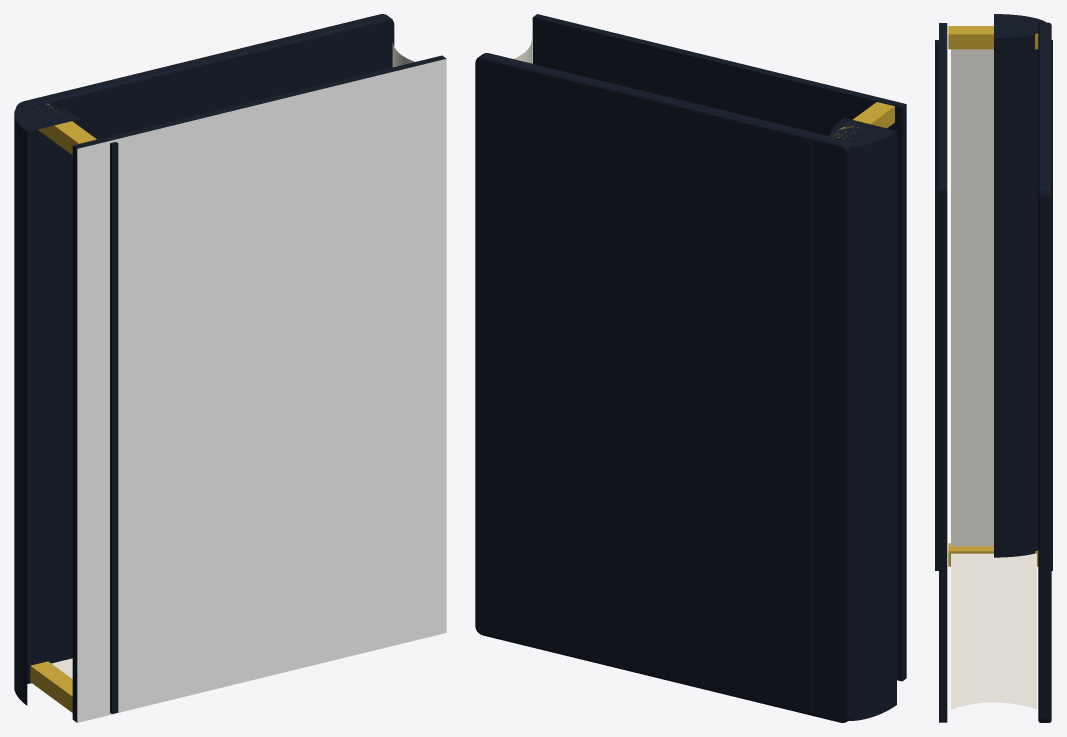
The model's file is advanced_book_realistic.gltf.
3 views of the same model, side by side, from view 1: azimuth 30°, elevation 25°; view 2: azimuth 150°, elevation 25°; view 3: azimuth 270°, elevation 25° (orthographic). The views are drawn at different scales.
Parts seen in each view (by area): view 1: Front_Cover_Board, Back_Cover_Board, Convex_Spine, Front_French_Groove, Bottom_Headband, Top_Headband; view 2: Back_Cover_Board, Convex_Spine, Front_Cover_Board, Back_French_Groove, Top_Headband; view 3: Concave_Paper_Text_Block, Convex_Spine, Back_Cover_Board, Front_Cover_Board, Front_French_Groove, Top_Headband, Back_French_Groove, Bottom_Headband.
Part boxes in pixels (<box>): Front_Cover_Board: <box>72,55,446,722</box>; Back_Cover_Board: <box>16,14,394,683</box>; Convex_Spine: <box>14,104,80,705</box>; Front_French_Groove: <box>110,142,118,713</box>; Bottom_Headband: <box>30,661,72,712</box>; Top_Headband: <box>38,103,96,154</box>; Back_Cover_Board: <box>475,53,851,722</box>; Convex_Spine: <box>830,117,896,720</box>; Front_Cover_Board: <box>532,14,906,681</box>; Back_French_Groove: <box>806,141,813,712</box>; Top_Headband: <box>833,102,894,138</box>; Concave_Paper_Text_Block: <box>951,49,1036,709</box>; Convex_Spine: <box>994,14,1046,557</box>; Back_Cover_Board: <box>1038,22,1051,722</box>; Front_Cover_Board: <box>939,23,947,722</box>; Front_French_Groove: <box>935,40,938,570</box>; Top_Headband: <box>948,26,1038,49</box>; Back_French_Groove: <box>1051,40,1052,570</box>; Bottom_Headband: <box>948,543,1038,566</box>.
Size of the model in its own units: 0.175 by 0.247 by 0.0492.
